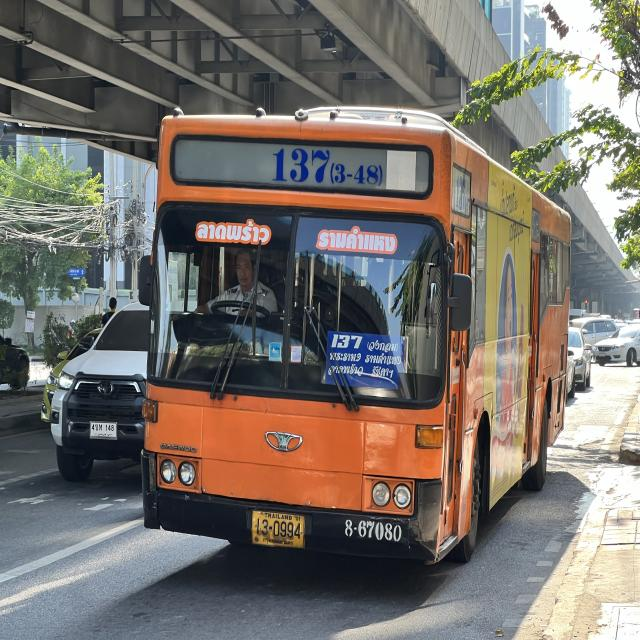BMTA-bus: (140, 108, 573, 568)
Bus-Line-Number: (266, 145, 385, 190)
Destination-Sign-Normal: (327, 330, 403, 392)
